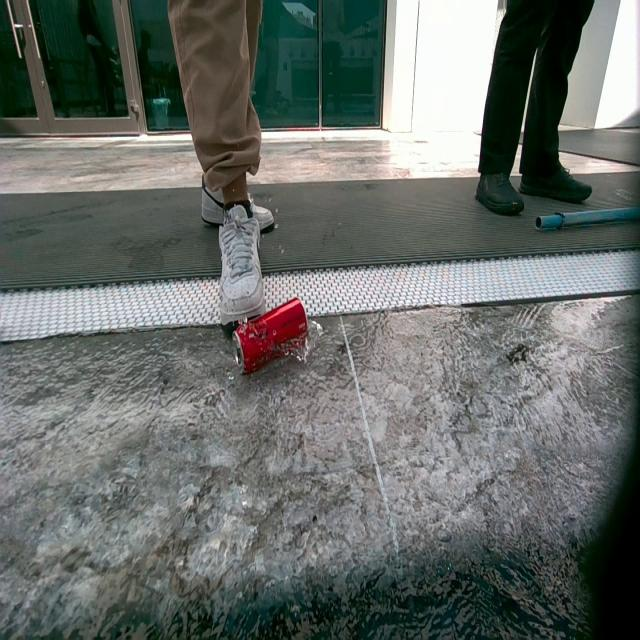Cans: (237, 301, 309, 380)
